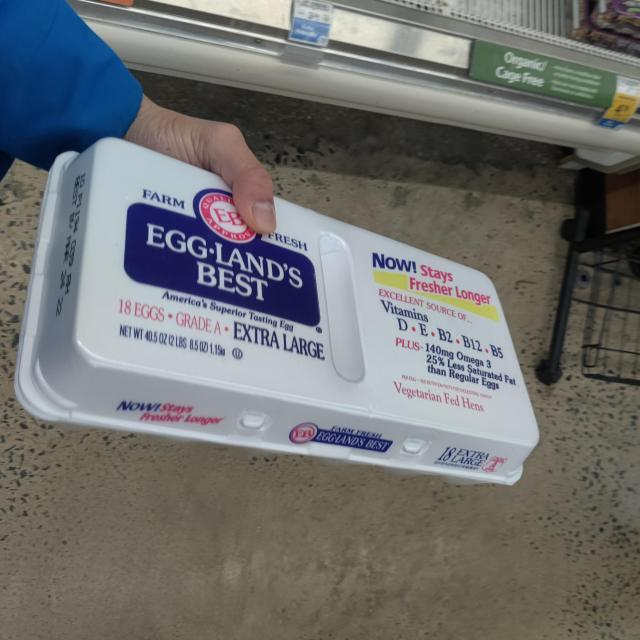Eggs: (16, 117, 556, 501)
